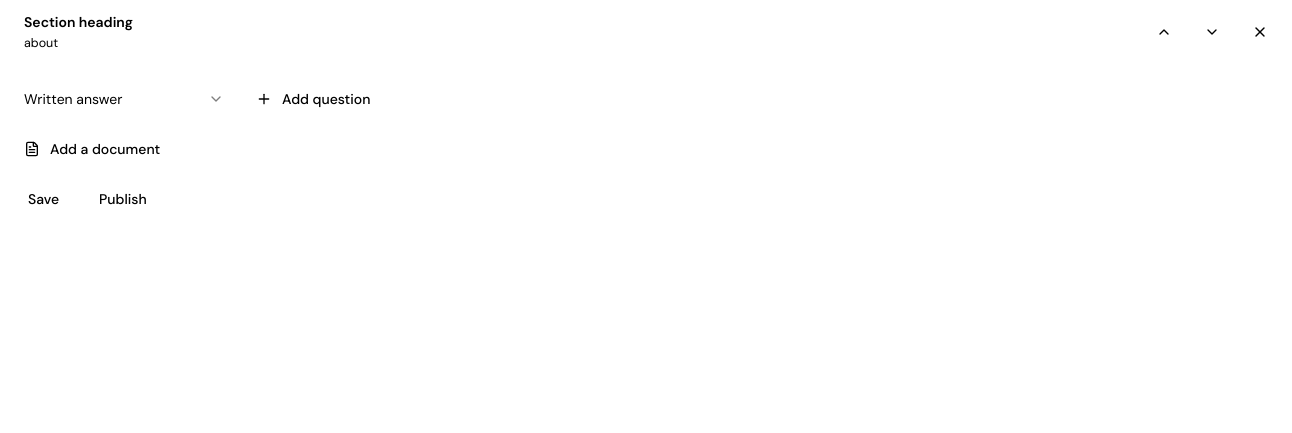
Test case: IntakeItemEditor › does not offer a required toggle on a heading
Click the button "Section heading about": (78, 22) [24,12,1136,53]
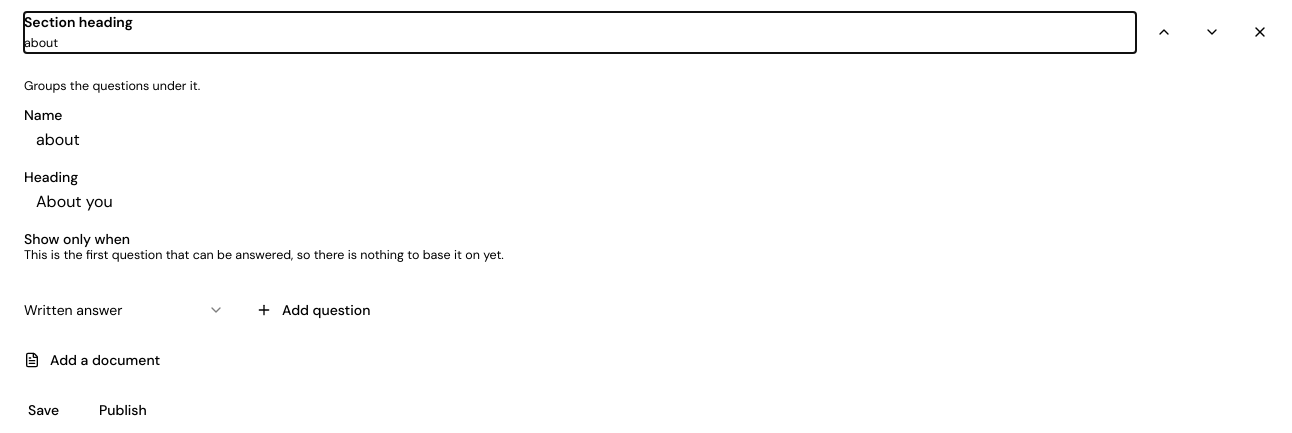
expect the field labelled "Heading" holds "About you": met, box [24,184,1280,220]
